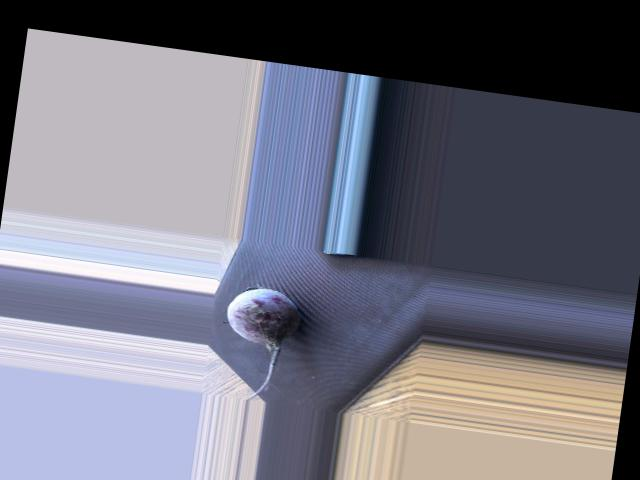beet: (216, 283, 303, 405)
